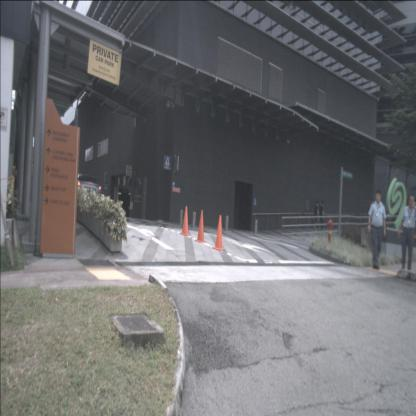cone: (212, 214, 224, 252), (195, 210, 207, 243), (180, 204, 190, 236)
